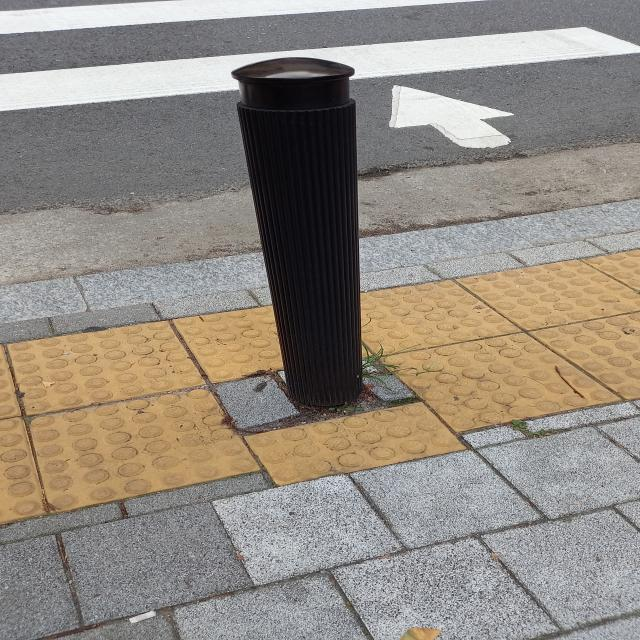pole: (231, 56, 361, 406)
